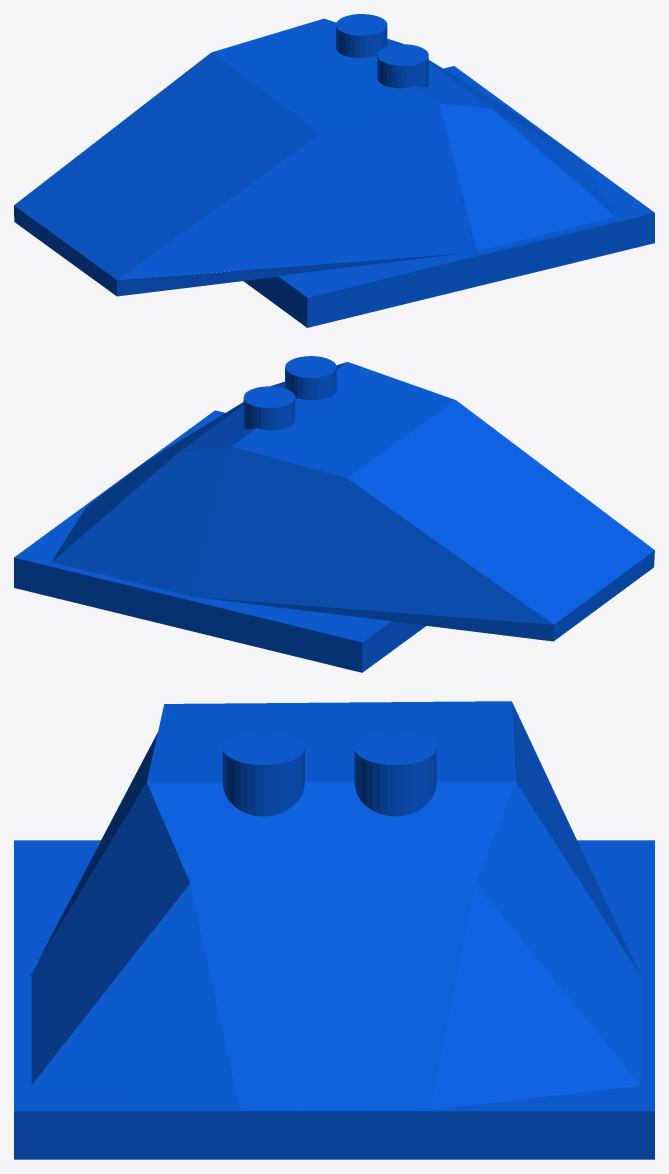
File: Roof.fbx
The picture shows the model from 3 angles, top to bottom: view 1: azimuth 30°, elevation 25°; view 2: azimuth 150°, elevation 25°; view 3: azimuth 270°, elevation 25°; orthographic projection. The views are drawn at different scales.
Visible parts, largest first — view 1: Cylinder.002; view 2: Cylinder.002; view 3: Cylinder.002.
Boxes of the visible parts, box(x1,y1,x2,y2) form: Cylinder.002: box(14, 14, 654, 327); Cylinder.002: box(14, 356, 654, 672); Cylinder.002: box(14, 701, 654, 1159).
Size of the model in its own units: 372 by 126 by 264.
